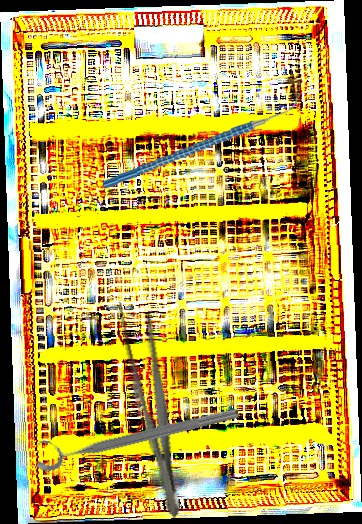Chopper: (98, 90, 308, 190)
Dressing Forceps: (111, 293, 194, 522)
Fixation Ring: (30, 391, 241, 474)
